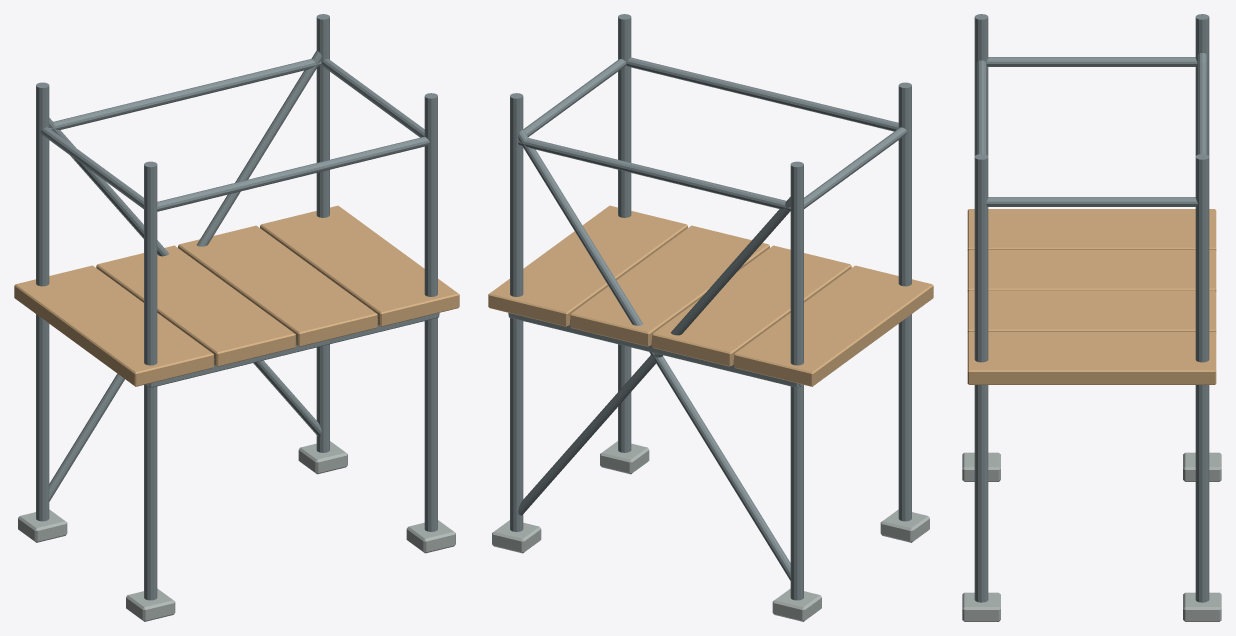
3 renders of one model, left to right at view 1: azimuth 30°, elevation 25°; view 2: azimuth 150°, elevation 25°; view 3: azimuth 270°, elevation 25°, orthographic. The views are drawn at different scales.
Visible parts, largest first — view 1: construction-scaffold-01; view 2: construction-scaffold-01; view 3: construction-scaffold-01.
Boxes of the visible parts, x1,y1,x2,y2 form: construction-scaffold-01: (14, 14, 459, 621); construction-scaffold-01: (488, 14, 933, 621); construction-scaffold-01: (962, 14, 1221, 621).
Size of the model in its own units: 1.39 by 1.83 by 0.94.
